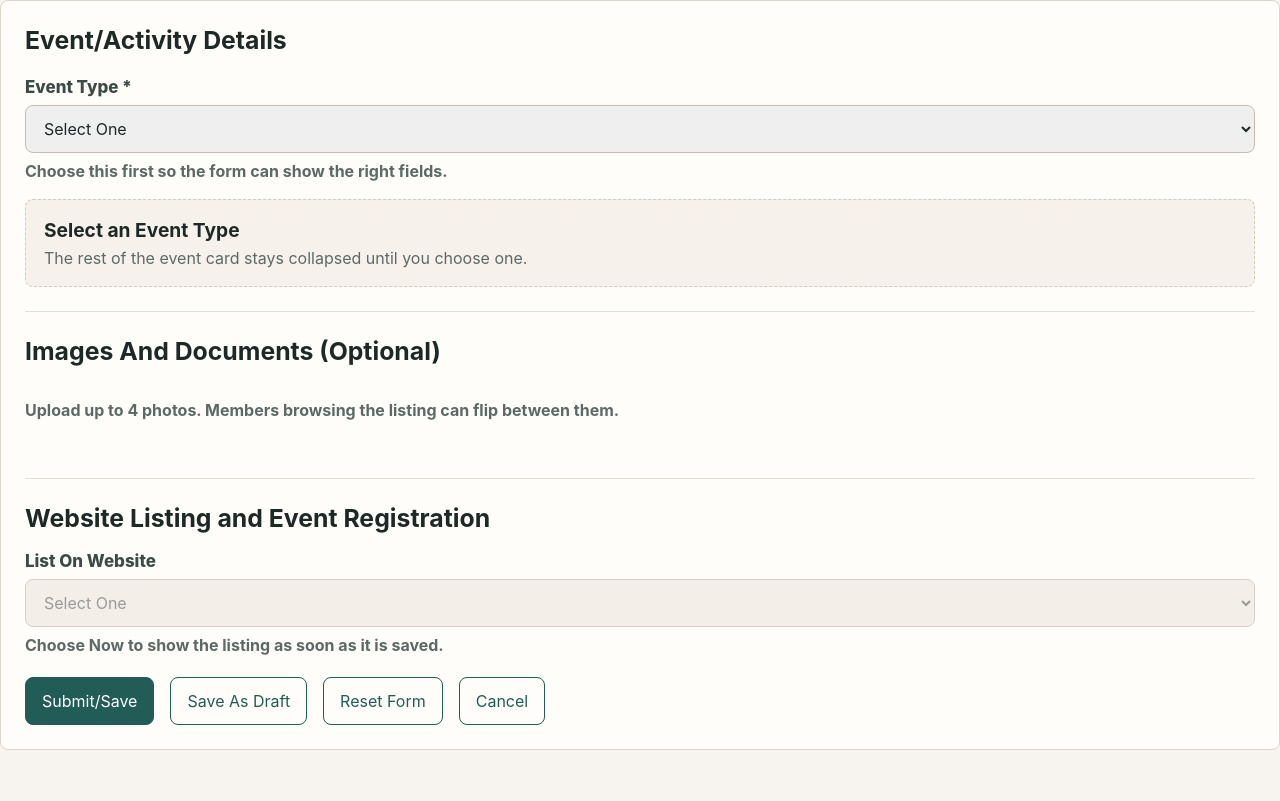
EventForm payment type checkboxes › only offers the "Allow cash/check payment later" sub-toggle under Online, not Cash/Check Only
Select "Workshop" in the dropdown labelled "Event Type" at point(640, 129), box [25, 105, 1255, 153]
(page scrolled)
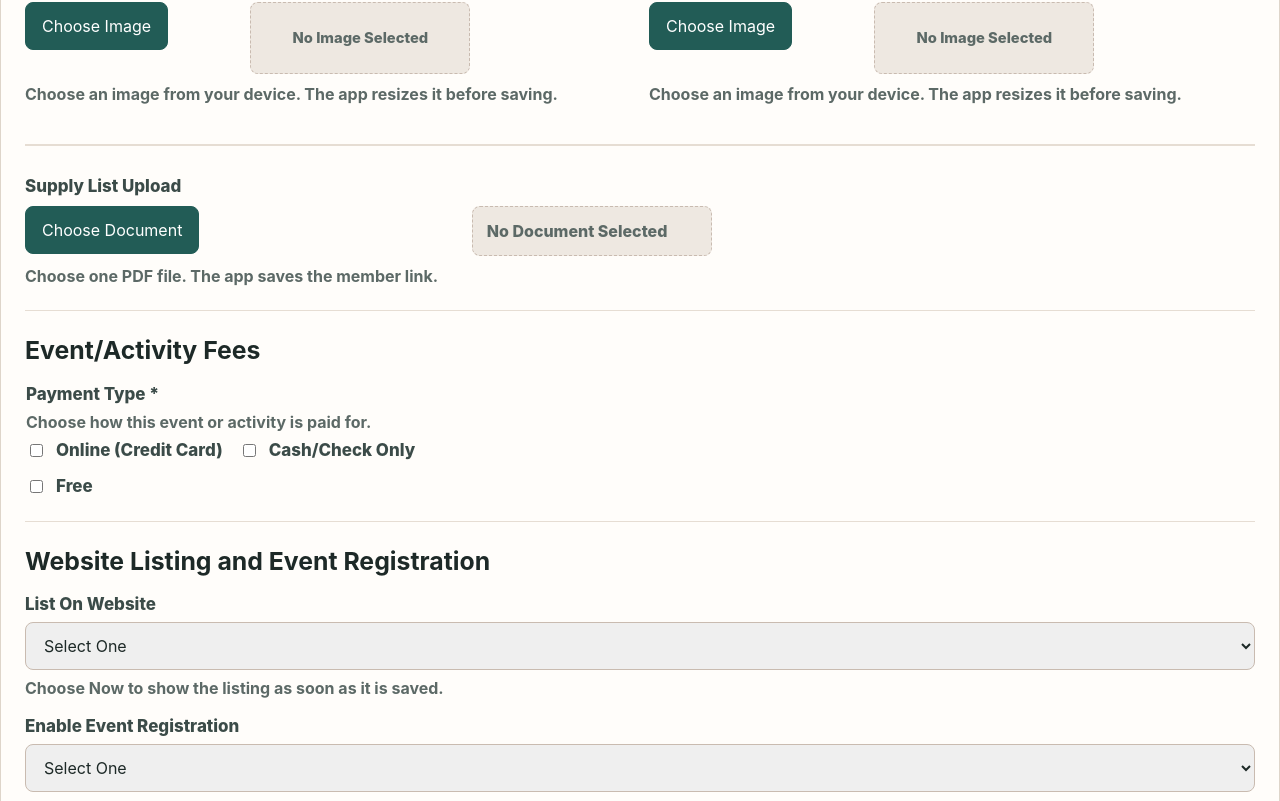
Click the checkbox labelled "Online (Credit Card)" at point(36, 450), box [30, 444, 43, 456]
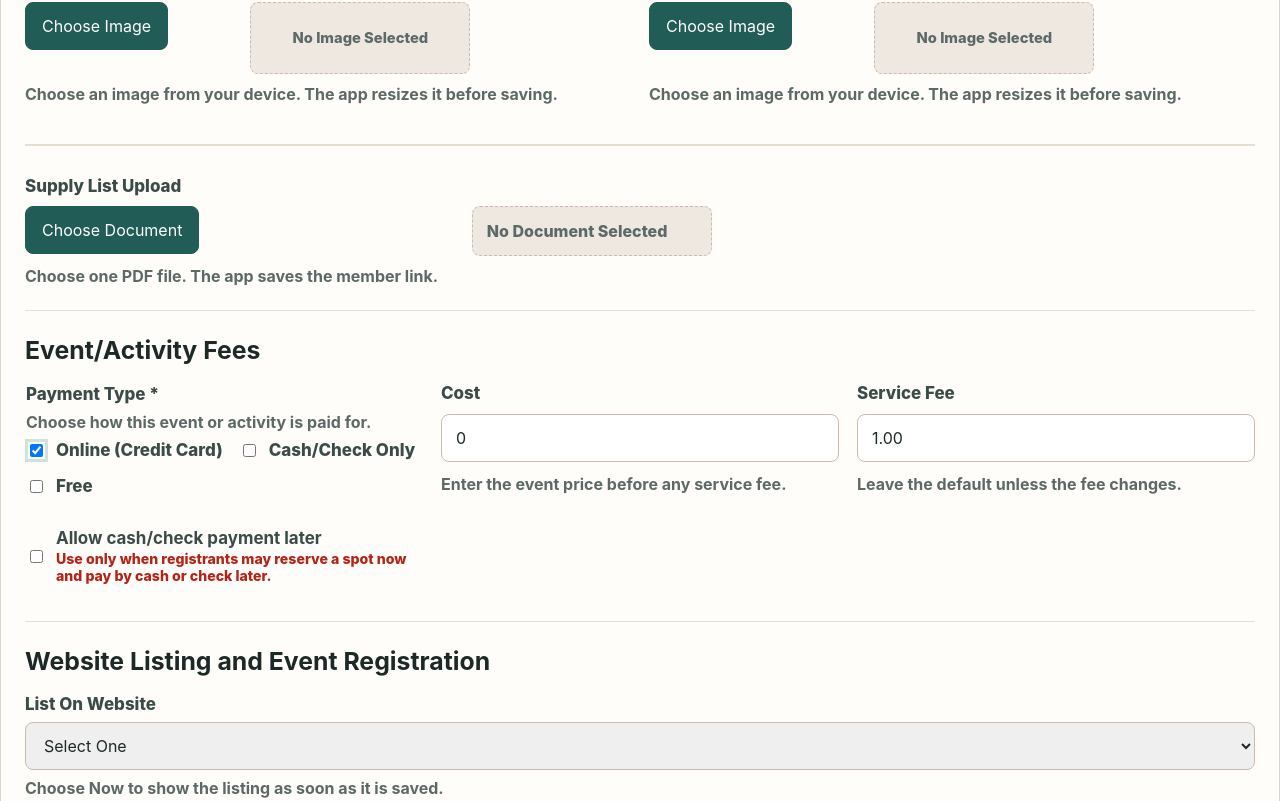
Now the checkbox labelled "Allow cash/check payment later" is shown, box [30, 550, 43, 562]
Click the checkbox labelled "Cash/Check Only" at point(249, 450), box [243, 444, 256, 456]
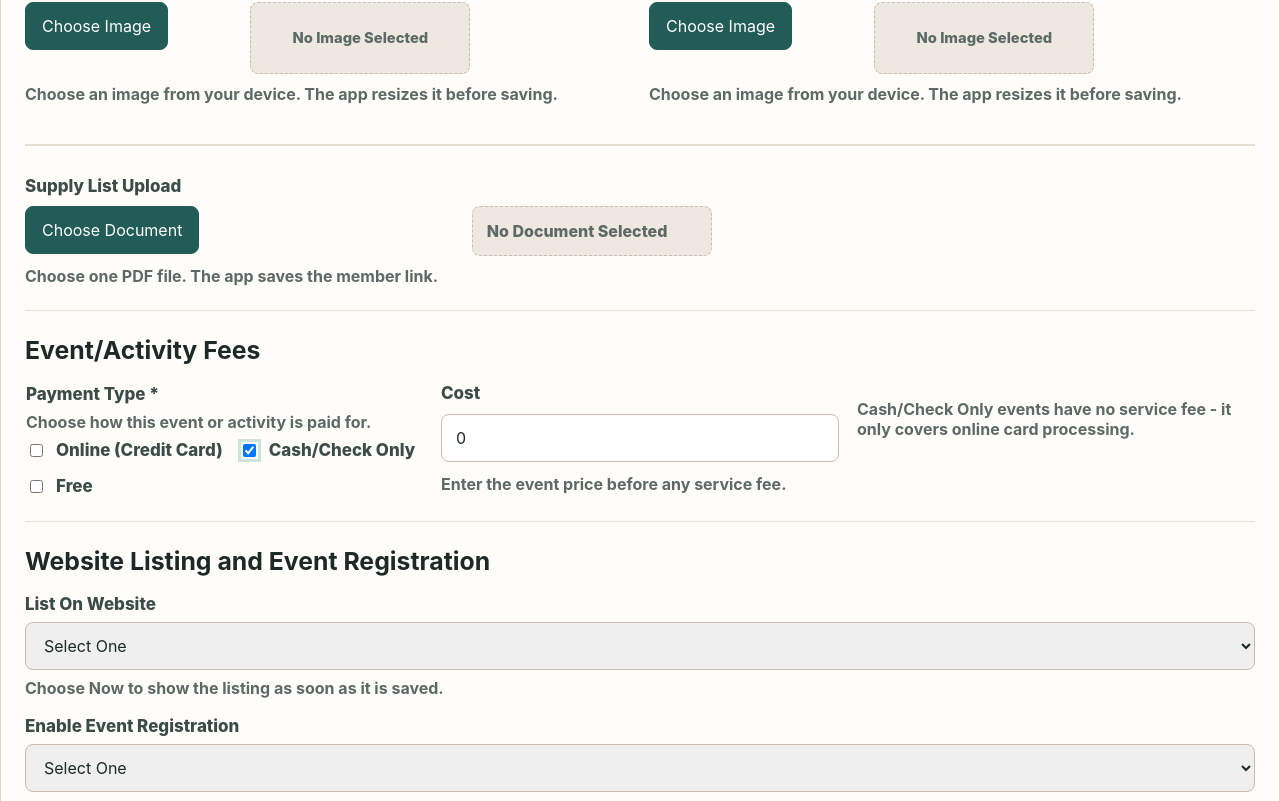
Now the text "Allow cash/check payment later" is gone
